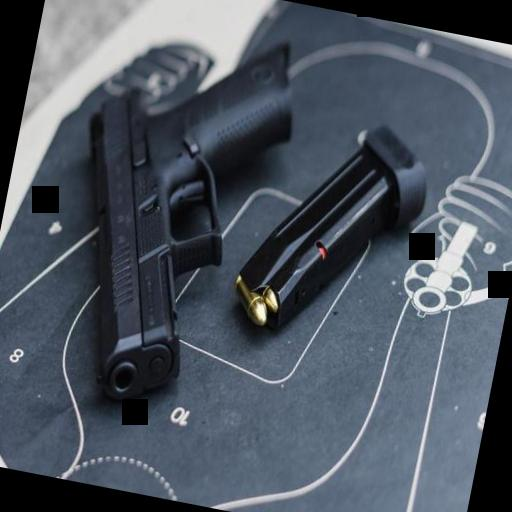Handgun: (34, 0, 314, 432)
